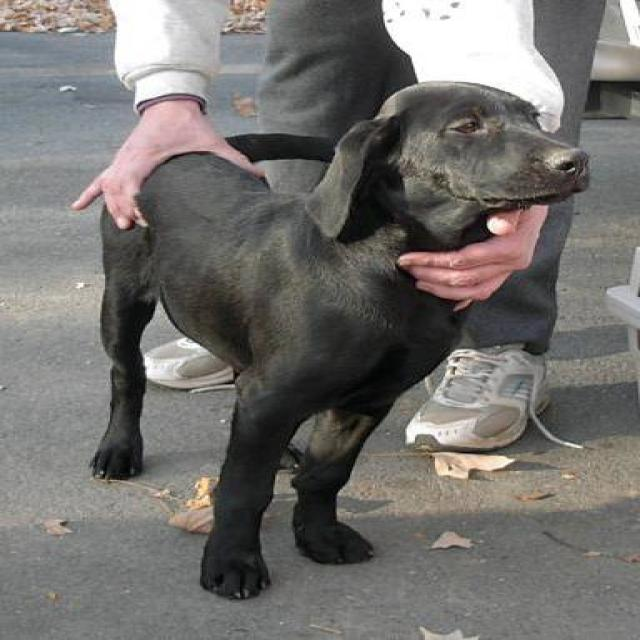dog: (87, 78, 590, 600)
